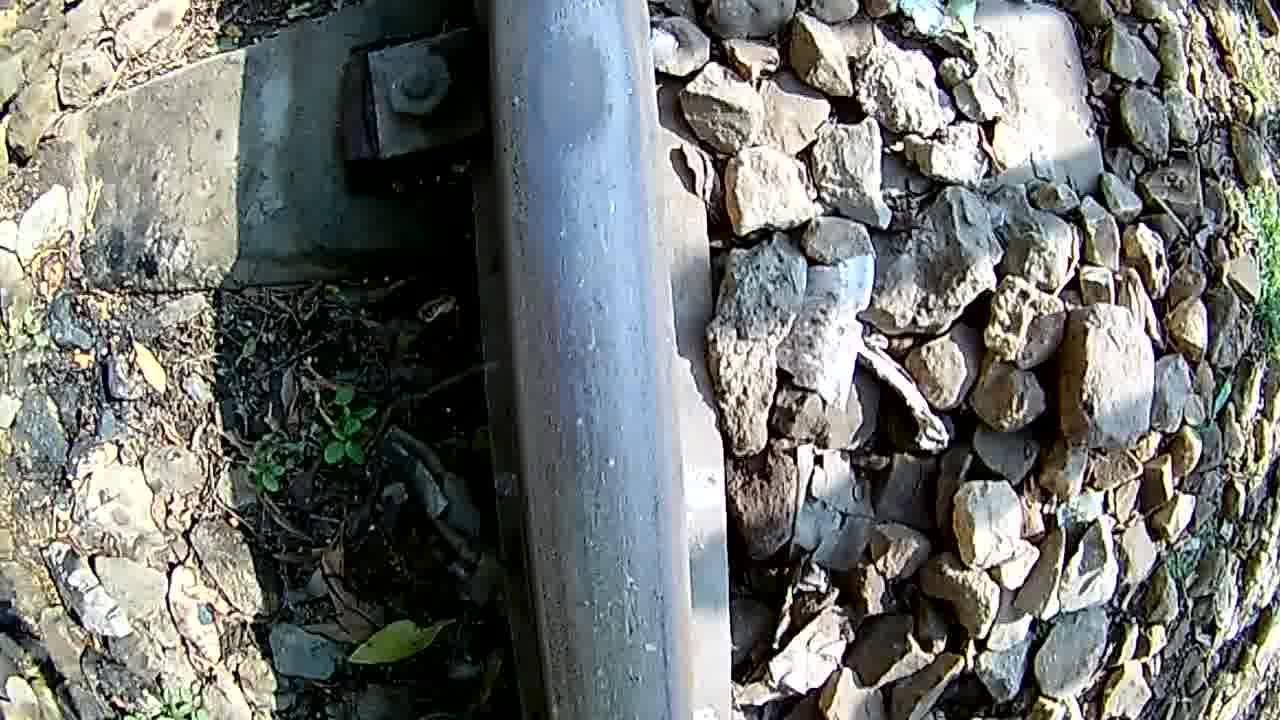crack: (492, 0, 640, 279)
